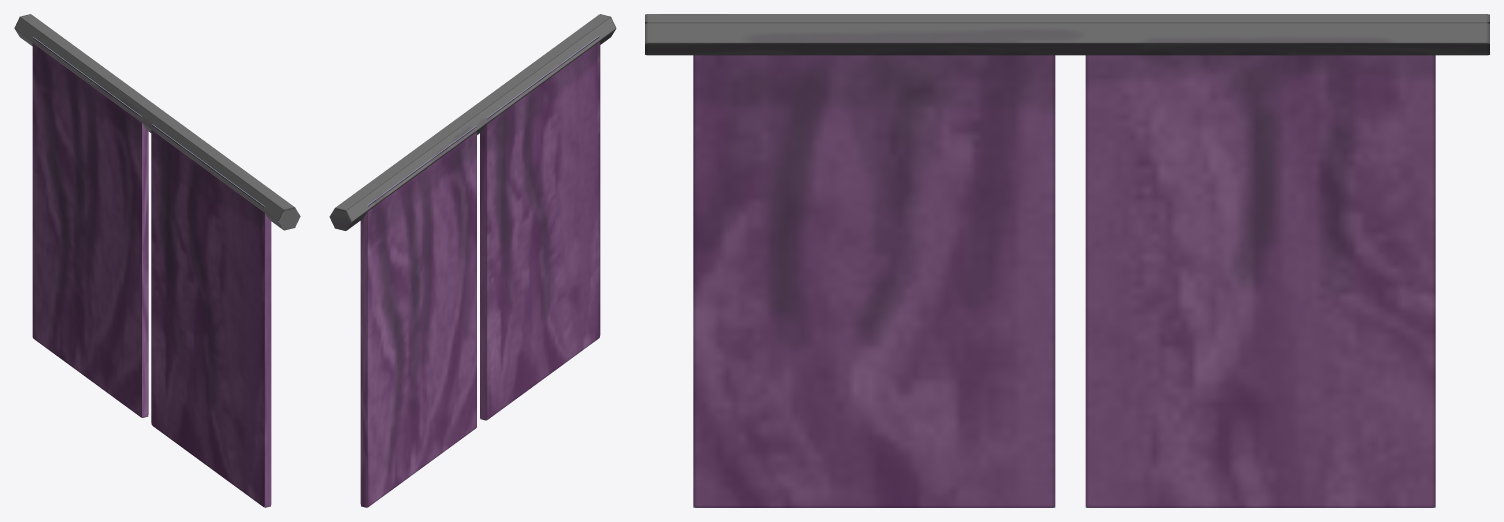
File: cortina.fbx
The picture shows the model from 3 angles, left to right: view 1: azimuth 30°, elevation 25°; view 2: azimuth 150°, elevation 25°; view 3: azimuth 270°, elevation 25°; orthographic projection. The views are drawn at different scales.
Parts seen in each view (by area): view 1: cube_1, cube, cylinder; view 2: cube_1, cube, cylinder; view 3: cube_1, cube, cylinder.
Part boxes in pixels (left/top/right/bottom): cube_1: left=151, top=124, right=271, bottom=507; cube: left=32, top=37, right=148, bottom=417; cylinder: left=14, top=14, right=300, bottom=230; cube_1: left=480, top=35, right=600, bottom=420; cube: left=360, top=126, right=476, bottom=507; cylinder: left=329, top=14, right=616, bottom=230; cube_1: left=693, top=55, right=1055, bottom=507; cube: left=1085, top=55, right=1435, bottom=507; cylinder: left=645, top=14, right=1489, bottom=55.
Bounding box in the file's own units: 4.22 × 56.25 × 87.5.
Materials: 1 (1 with a texture image).
